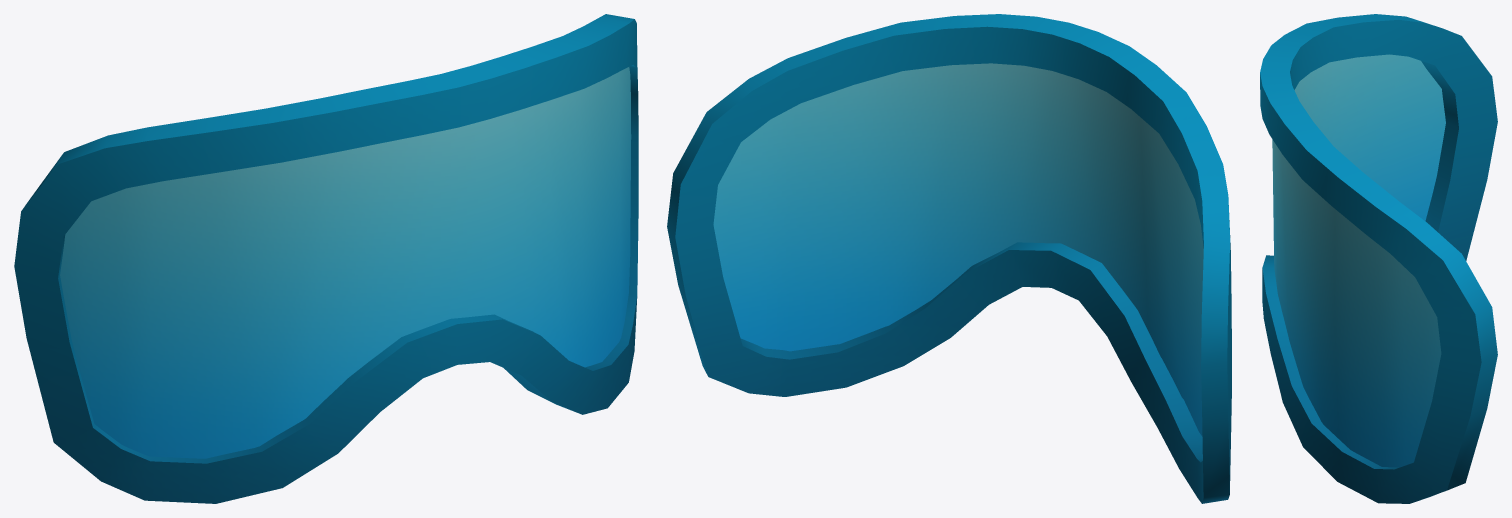
Rendered from Racer_Helmet_Glasses.fbx.
3 renders of one model, left to right at view 1: azimuth 30°, elevation 25°; view 2: azimuth 150°, elevation 25°; view 3: azimuth 270°, elevation 25°, orthographic. The views are drawn at different scales.
Parts seen in each view (by area): view 1: Racer_Helmet_Glasses; view 2: Racer_Helmet_Glasses; view 3: Racer_Helmet_Glasses.
Boxes of the visible parts, box(x1,y1,x2,y2) form: Racer_Helmet_Glasses: box(14, 14, 638, 503); Racer_Helmet_Glasses: box(667, 14, 1231, 503); Racer_Helmet_Glasses: box(1260, 14, 1497, 503).
Size of the model in its own units: 24.37 by 9.87 by 15.3.
